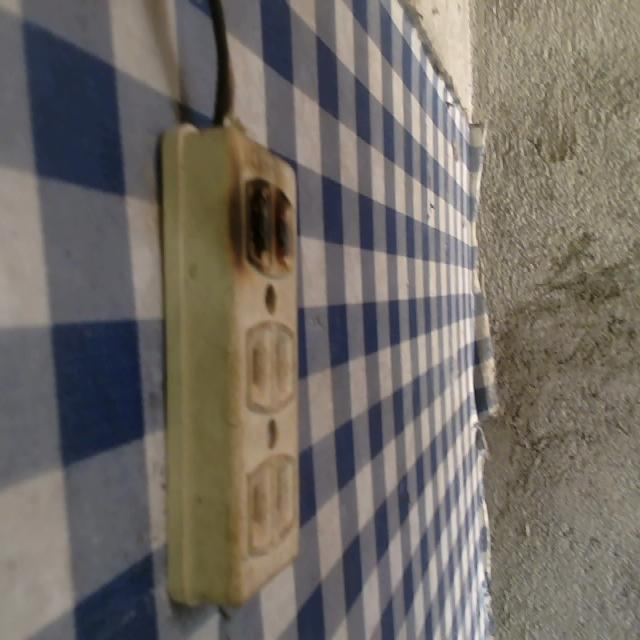-: (228, 157, 302, 279)
